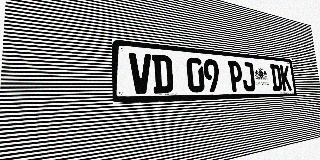0: (186, 57, 205, 93)
9: (203, 58, 221, 92)
D: (152, 54, 173, 93), (270, 64, 283, 91)
J: (241, 62, 256, 91)
K: (280, 65, 292, 91)
P: (228, 61, 243, 92)
V: (129, 52, 153, 94)
